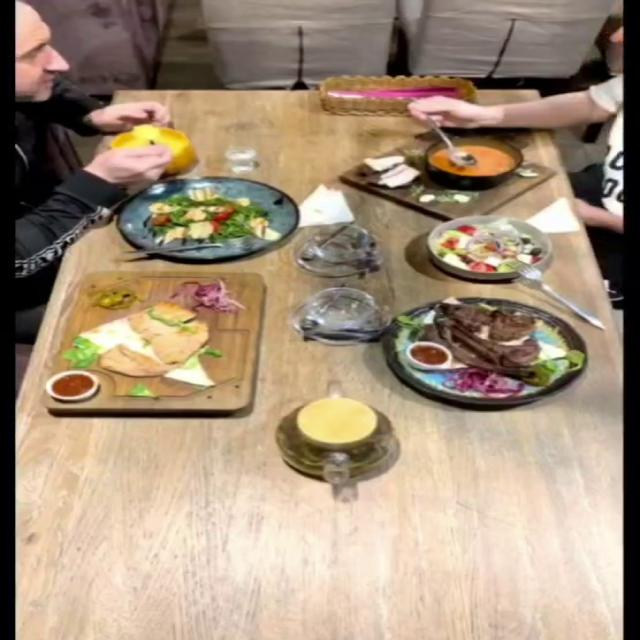alcohol: (224, 137, 282, 179)
meat: (379, 296, 589, 405)
salat: (113, 176, 296, 260), (426, 213, 554, 279)
soup: (335, 138, 555, 221), (110, 125, 197, 174)
tea: (273, 394, 397, 480)
